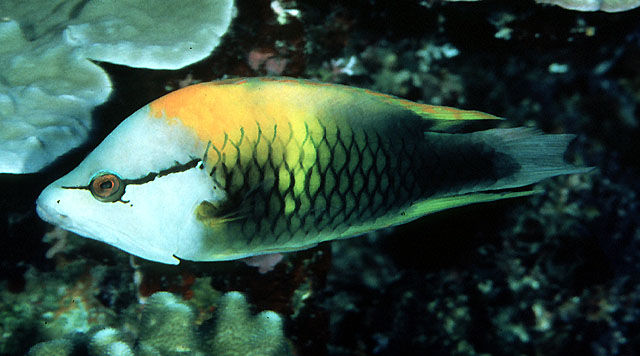fish: (36, 76, 597, 265)
